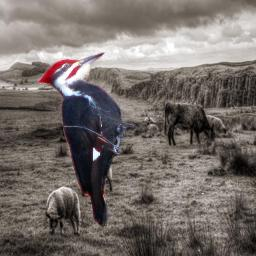Woodpecker: (37, 52, 134, 227)
